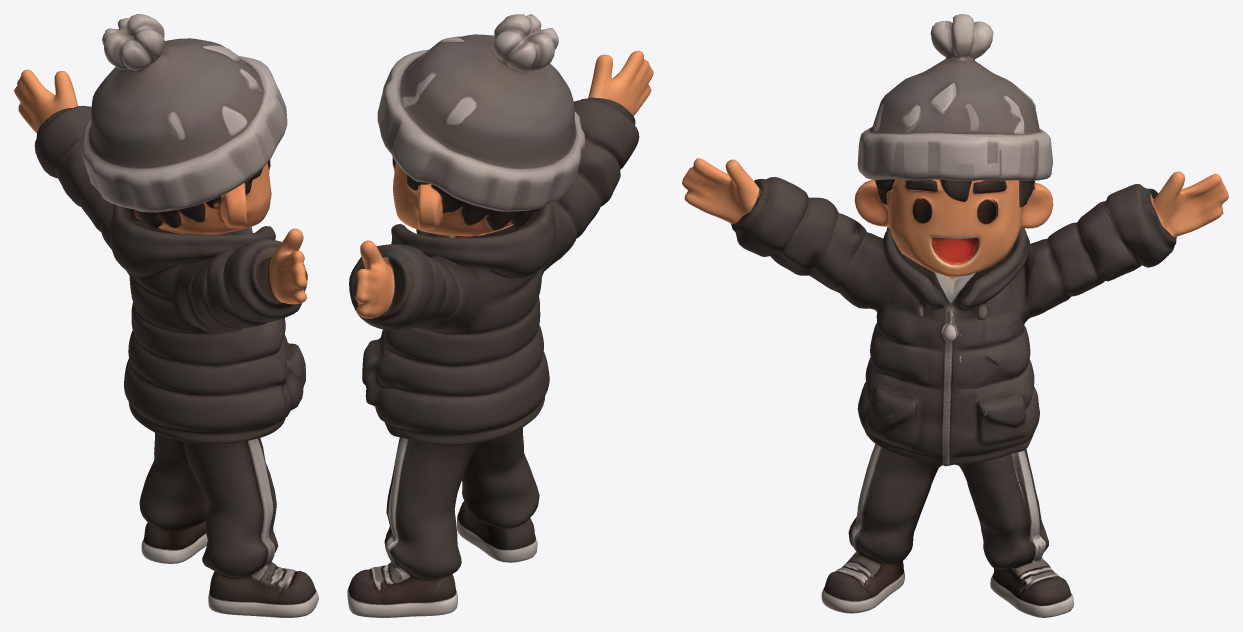
The model's file is npc_spectator.glb.
3 views of the same model, side by side, from view 1: azimuth 30°, elevation 25°; view 2: azimuth 150°, elevation 25°; view 3: azimuth 270°, elevation 25° (orthographic). The views are drawn at different scales.
Parts seen in each view (by area): view 1: tripo_node_60a34467-3fbc-42dd-a578-0fd0d1a5cdb8; view 2: tripo_node_60a34467-3fbc-42dd-a578-0fd0d1a5cdb8; view 3: tripo_node_60a34467-3fbc-42dd-a578-0fd0d1a5cdb8.
Part boxes in pixels (x1,y1,x2,y2): tripo_node_60a34467-3fbc-42dd-a578-0fd0d1a5cdb8: [14, 14, 318, 617]; tripo_node_60a34467-3fbc-42dd-a578-0fd0d1a5cdb8: [347, 14, 653, 617]; tripo_node_60a34467-3fbc-42dd-a578-0fd0d1a5cdb8: [682, 14, 1228, 617].
Bounding box in the file's own units: 0.3303 × 0.9793 × 0.8859.
Materials: 1 (1 with a texture image).
